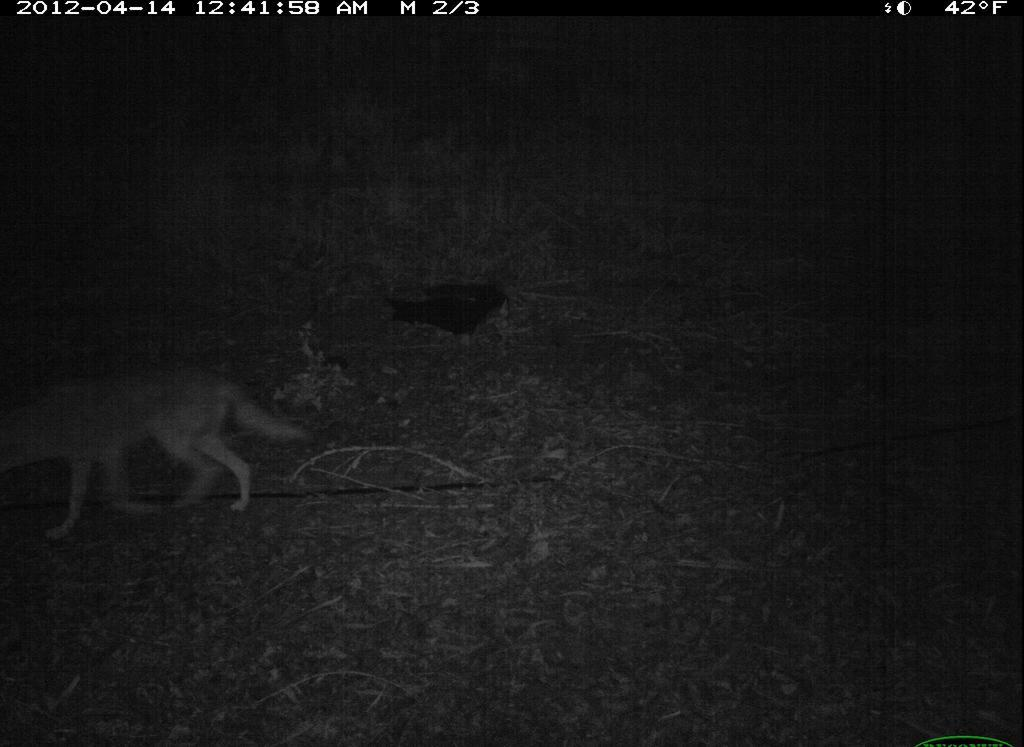coyote: (3, 360, 318, 546)
